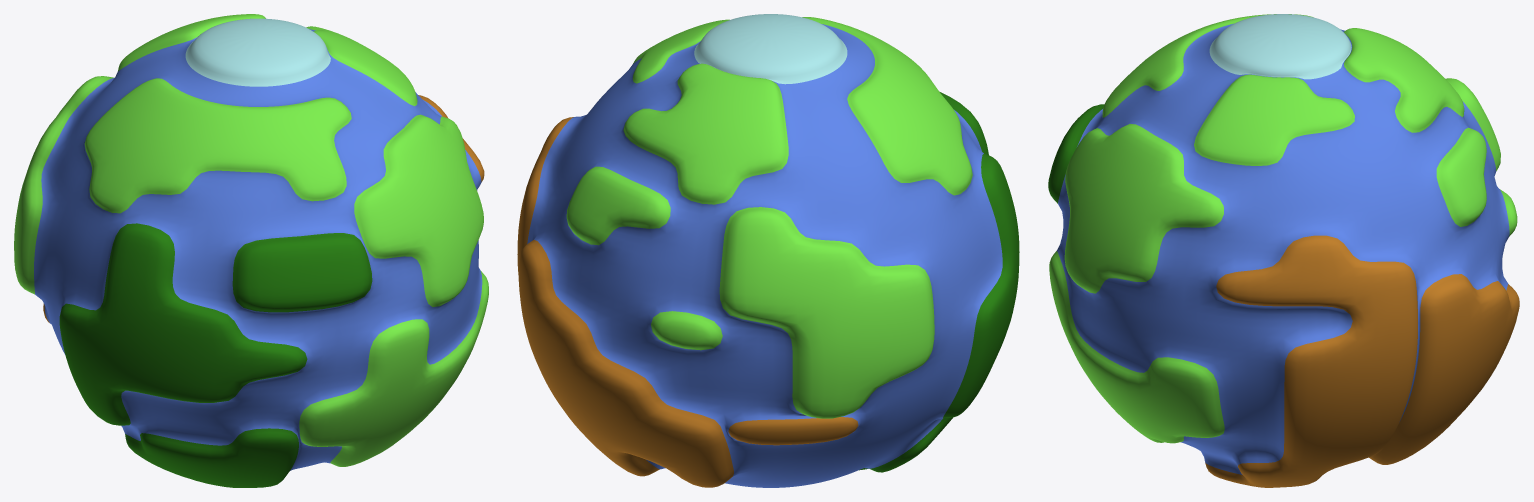
Rendered from Planeet_textures.fbx.
The picture shows the model from 3 angles, left to right: view 1: azimuth 30°, elevation 25°; view 2: azimuth 150°, elevation 25°; view 3: azimuth 270°, elevation 25°; orthographic projection. The views are drawn at different scales.
Visible parts, largest first — view 1: pSphere1; view 2: pSphere1; view 3: pSphere1.
Boxes of the visible parts, x1,y1,x2,y2 form: pSphere1: (14,14,488,487); pSphere1: (517,14,1019,487); pSphere1: (1048,14,1519,487).
Size of the model in its own units: 318 by 311 by 316.
